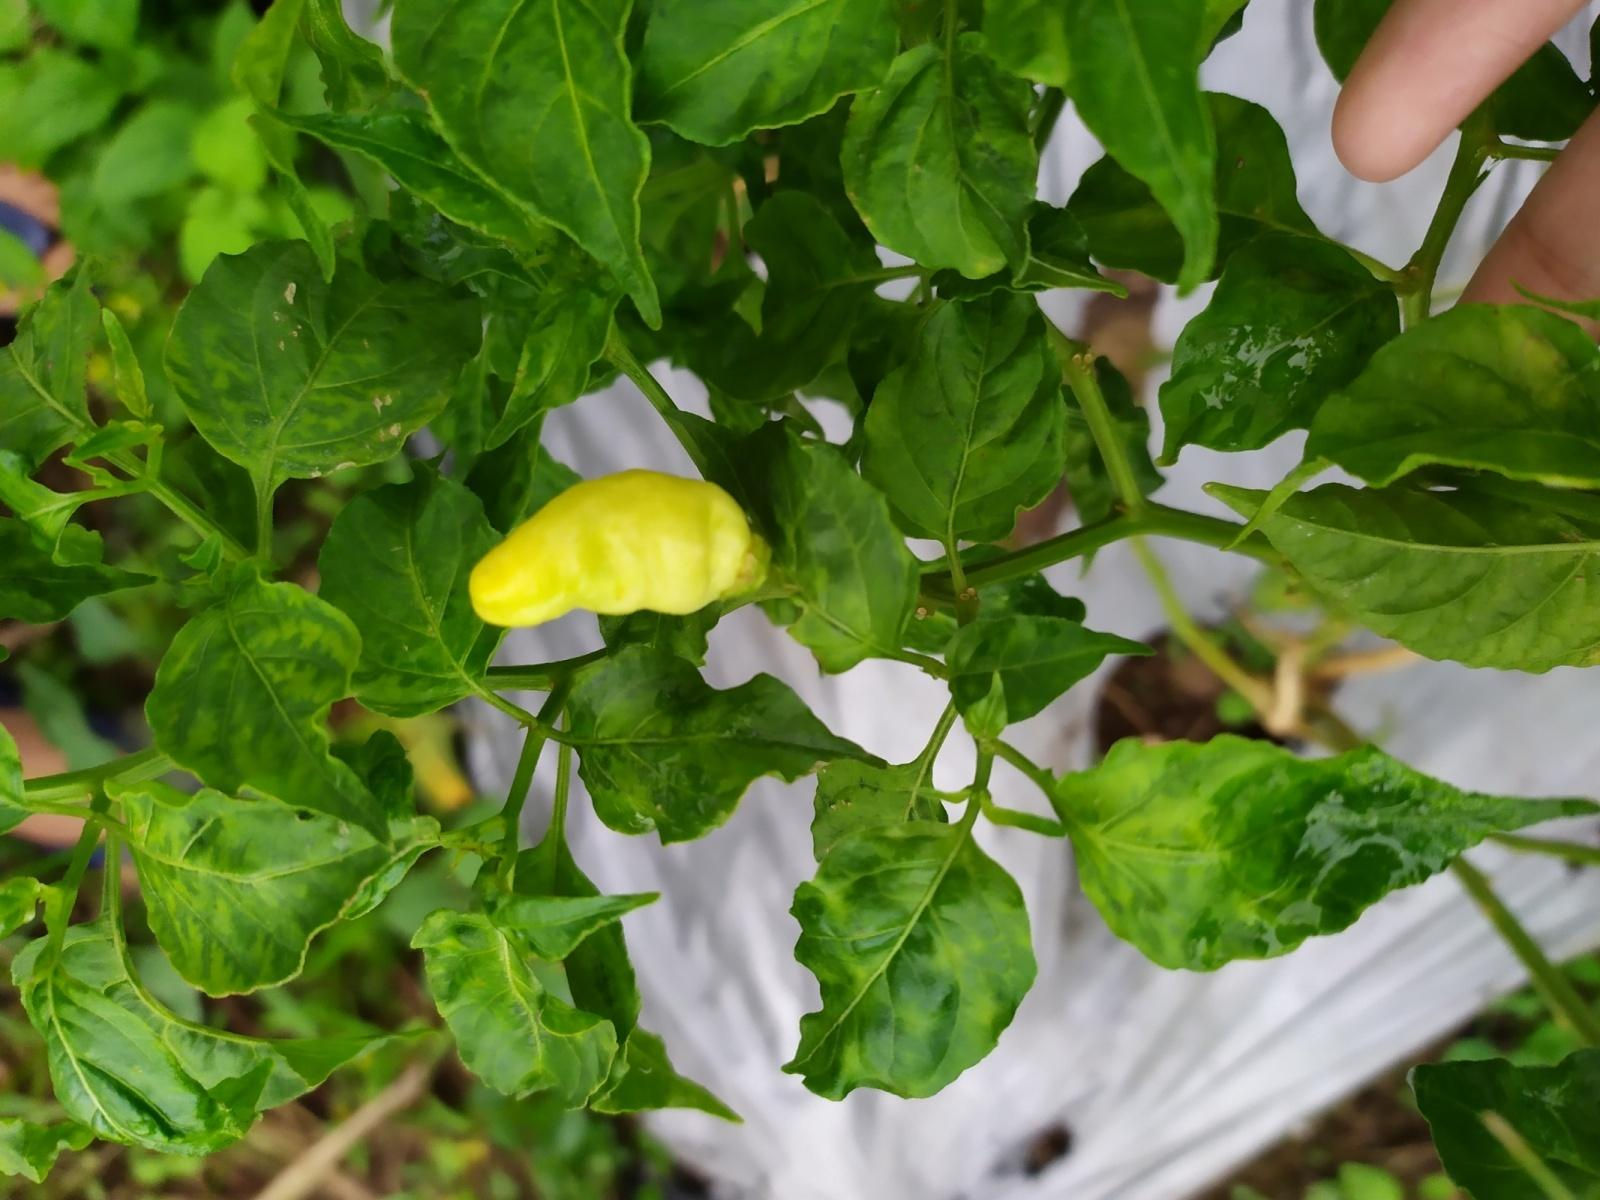cabai_normal: (469, 470, 755, 628)
